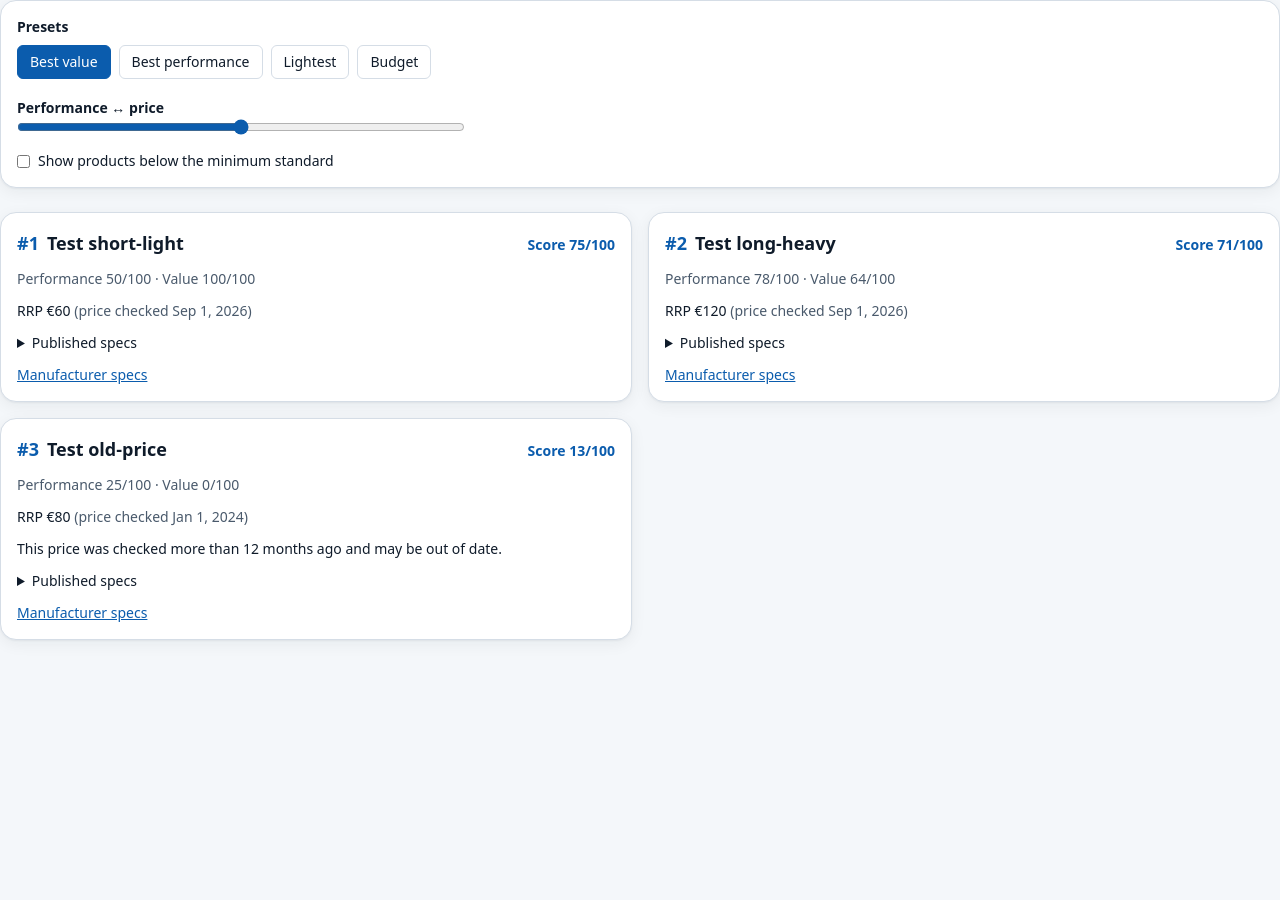
GearRanking › the slider switches to a custom blend
The image size is (1280, 900).
Set the slider labelled "Performance ↔ price" to "100" at (457, 127), box [17,119,465,135]
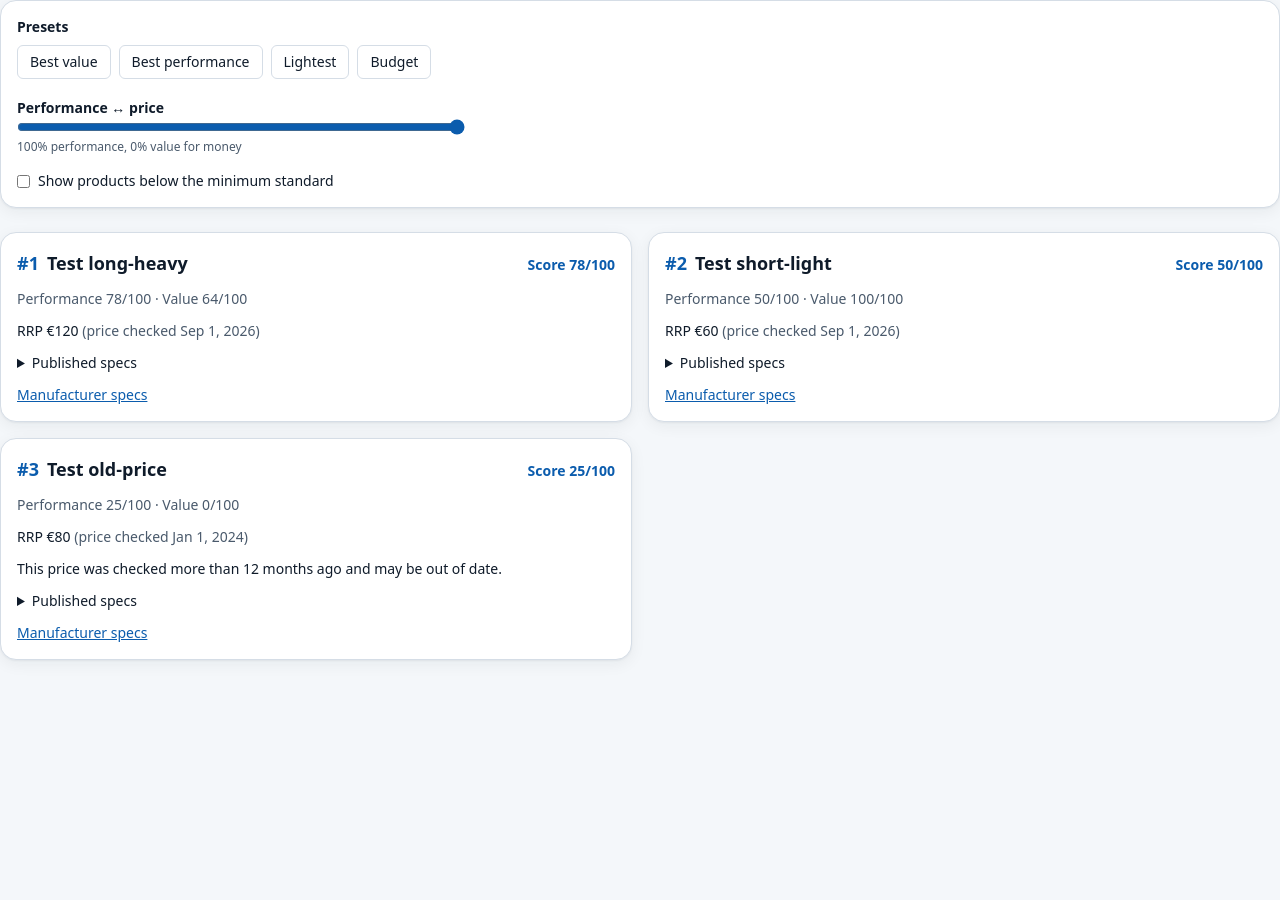
Result: the text "100% performance, 0% value for money" is shown at [17,138,242,155]
